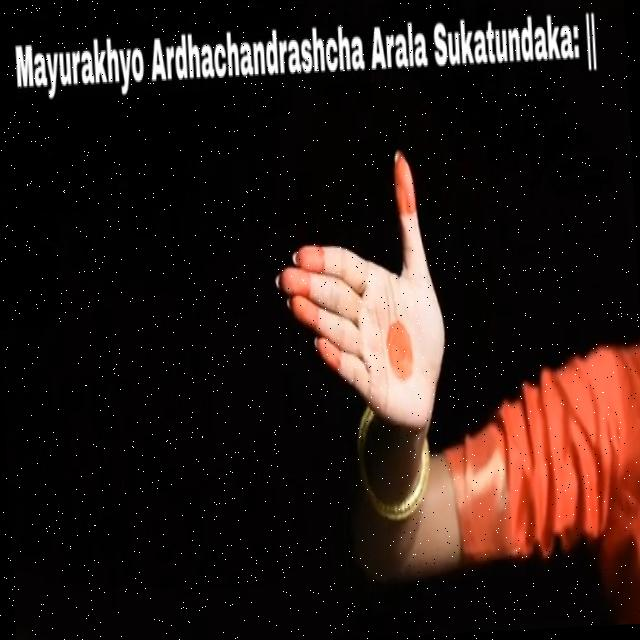Ardhachandra: (258, 120, 464, 452)
bangle: (345, 436, 442, 534)
text: (1, 8, 606, 109)
